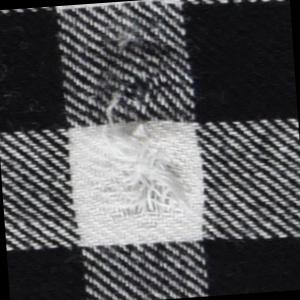Damage: (76, 23, 201, 240)
